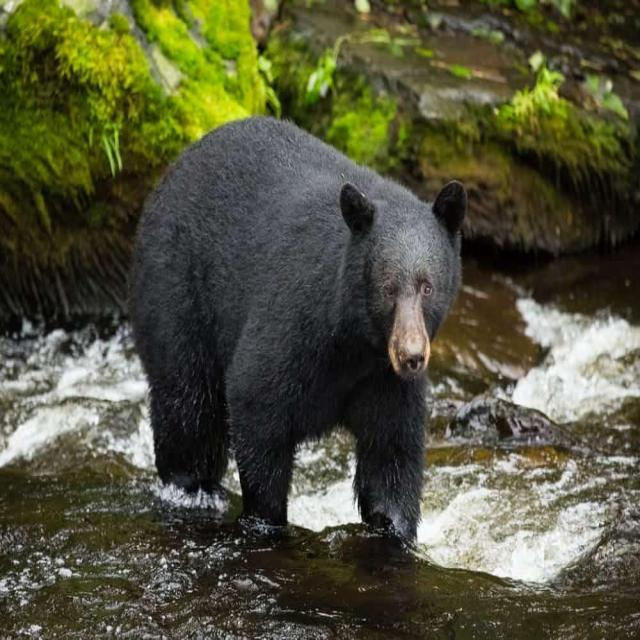Bear: (127, 117, 467, 551)
